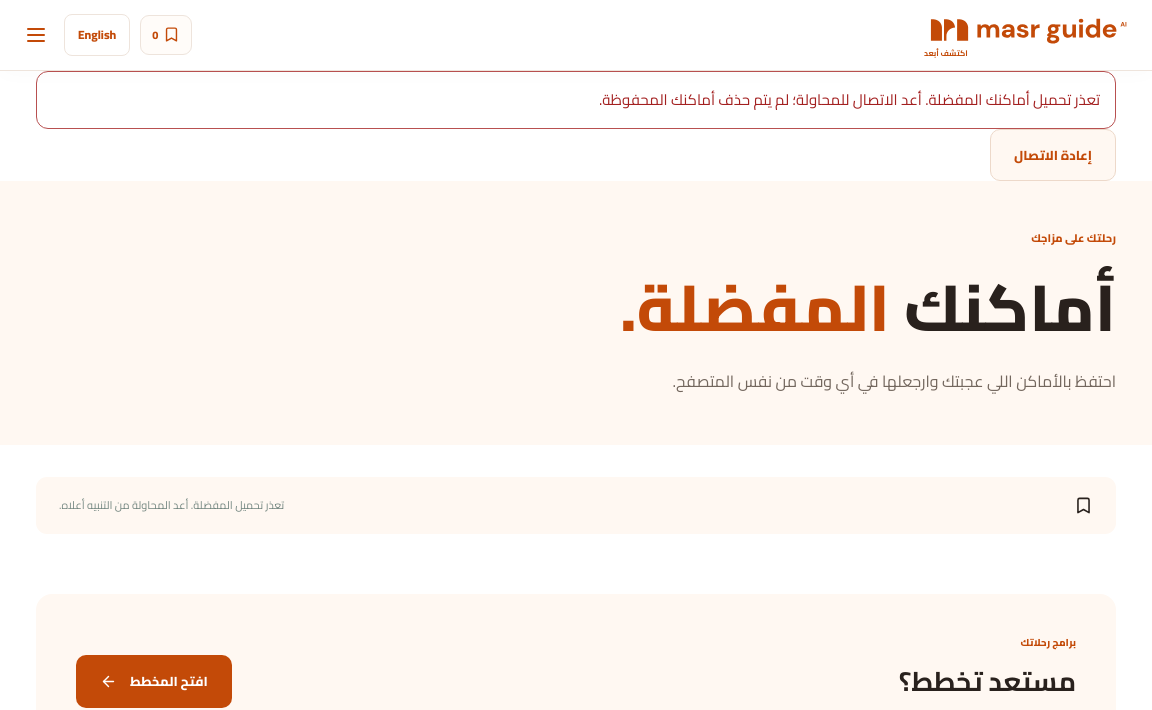
Test: recoverable visitor experience › retries failed account favorites without a false empty or synced state (ar)
Expected: the text "جار تحميل المفضلة..." is shown, [59,496,284,514]
Expected: the text "تعذر تحميل أماكنك المفضلة. أعد الاتصال للمحاولة؛ لم يتم حذف أماكنك المحفوظة." is shown, [36,71,1116,128]
Click the button "إعادة الاتصال" at (1053, 155), box [990,128,1116,181]
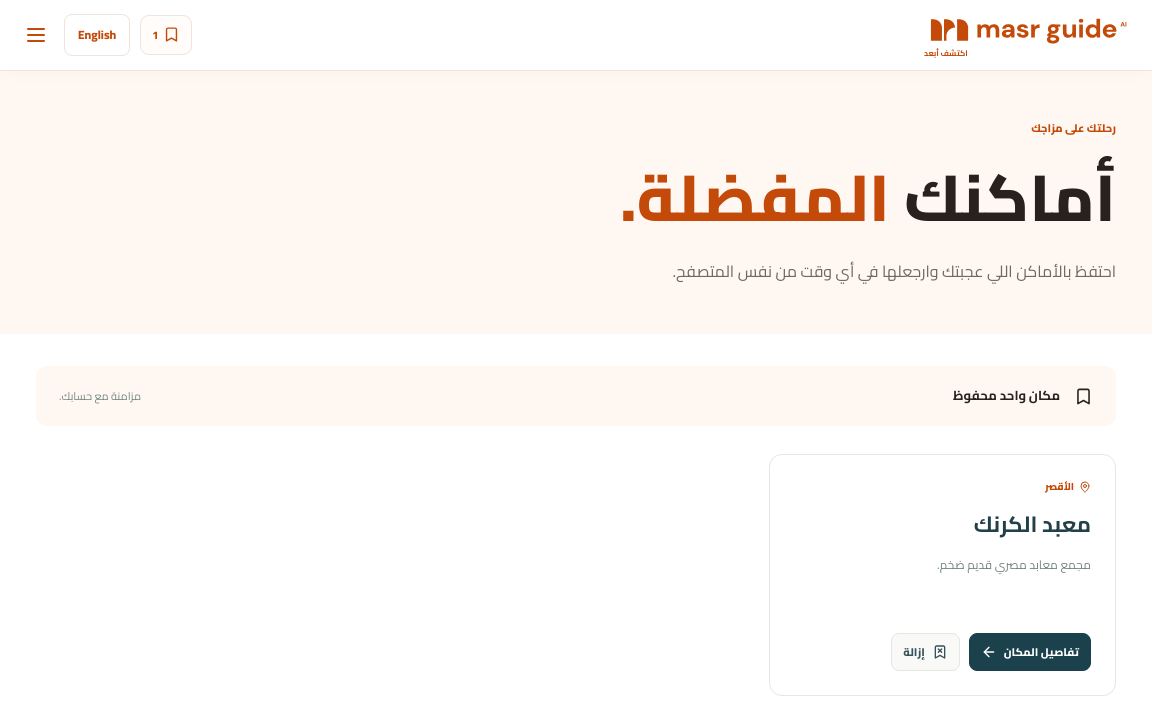
Now the text "مزامنة مع حسابك." is shown, box [59,387,141,405]
Now the heading "معبد الكرنك" is shown, box [974,503,1091,545]
Now the text "تعذر تحميل أماكنك المفضلة. أعد الاتصال للمحاولة؛ لم يتم حذف أماكنك المحفوظة." is gone
